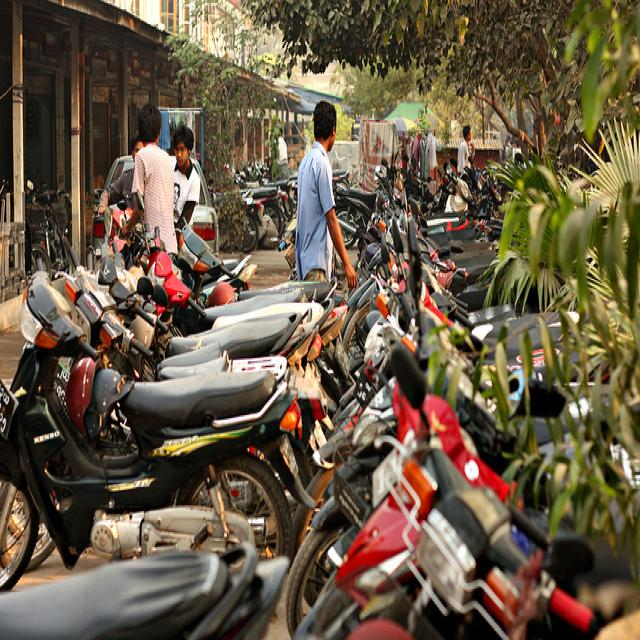motor: (116, 153, 596, 586), (0, 252, 319, 594), (288, 431, 640, 640), (51, 232, 331, 462), (118, 279, 346, 400), (0, 545, 287, 640), (135, 186, 320, 328), (283, 412, 400, 631), (173, 218, 338, 305), (419, 294, 583, 373), (402, 220, 517, 327), (335, 184, 379, 249), (244, 202, 263, 254), (459, 287, 488, 309)
